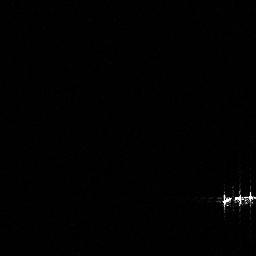ship: (223, 192, 256, 206)
